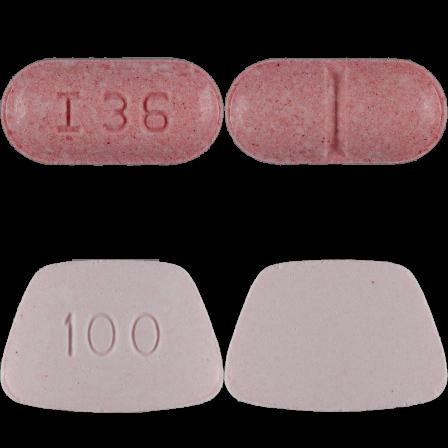61786-245: (0, 0, 224, 224)
